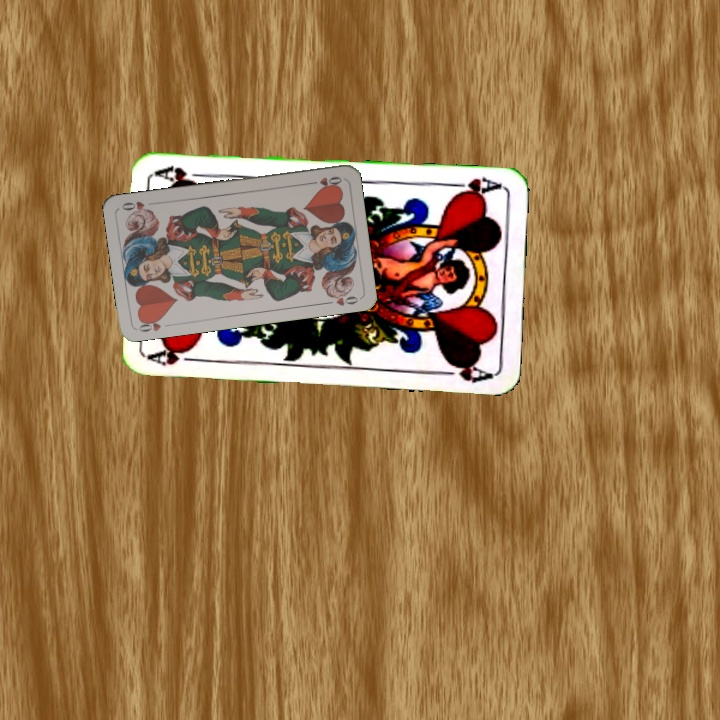HA: (444, 173, 503, 200), (145, 344, 204, 368)
HO: (304, 172, 344, 190), (135, 313, 165, 335)
